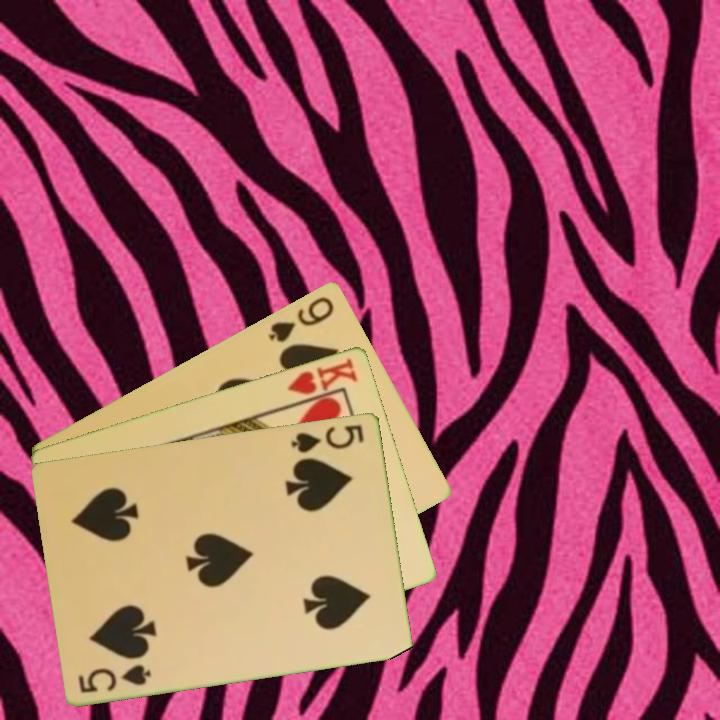5s: (75, 660, 154, 696), (288, 420, 367, 455)
9s: (265, 292, 337, 345)
Kh: (283, 354, 361, 408)
